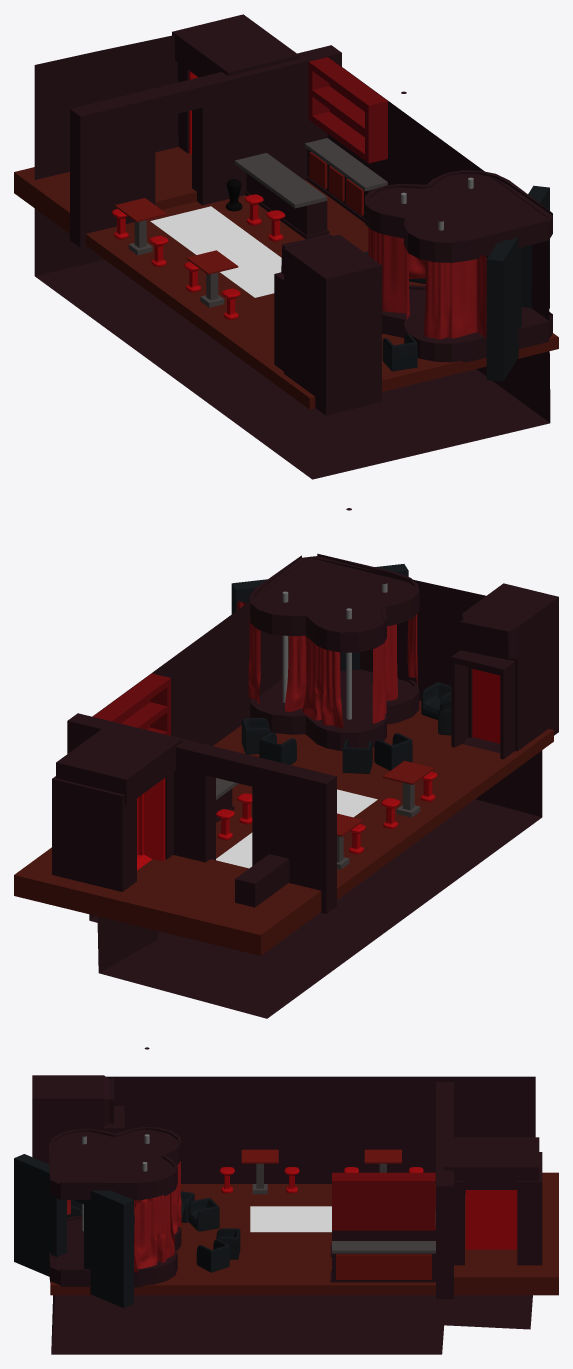
File: StripClubmain.fbx
3 renders of one model, top to bottom at view 1: azimuth 30°, elevation 25°; view 2: azimuth 150°, elevation 25°; view 3: azimuth 270°, elevation 25°, orthographic. The views are drawn at different scales.
Visible parts, largest first — view 1: InteriorStripClub, Cube.002, Cube, Cube.009, Cube.014, Cube.017, Cube.016, Cube.044, Cube.021, Curtain.001, Cube.006, Cube.010 (+8 smaller); view 2: InteriorStripClub, Cube, Cube.002, Cube.014, Cube.009, Cube.042, Cube.044, Cube.006, door.001, Curtain.001 backup, Cube.017, door.003 (+16 smaller); view 3: InteriorStripClub, Cube, Cube.016, Cube.014, Cube.017, Cube.009, Cube.044, Cube.002, door.003, Cube.006, Curtain.001 backup.002, Cube.018 (+11 smaller).
Boxes of the visible parts, x1,y1,x2,y2 form: InteriorStripClub: [34, 35, 550, 479]; Cube.002: [70, 45, 341, 247]; Cube: [14, 147, 558, 409]; Cube.009: [281, 234, 381, 415]; Cube.014: [365, 91, 552, 262]; Cube.017: [308, 57, 387, 163]; Cube.016: [486, 185, 549, 381]; Cube.044: [172, 14, 299, 77]; Cube.021: [150, 206, 281, 297]; Curtain.001: [424, 254, 487, 339]; Cube.006: [382, 219, 552, 362]; Cube.010: [234, 152, 329, 239]; InteriorStripClub: [89, 557, 542, 1018]; Cube: [14, 700, 553, 955]; Cube.002: [67, 713, 336, 913]; Cube.014: [249, 508, 419, 652]; Cube.009: [459, 583, 558, 751]; Cube.042: [52, 776, 136, 891]; Cube.044: [56, 722, 181, 805]; Cube.006: [250, 581, 419, 750]; door.001: [451, 650, 515, 759]; Curtain.001 backup: [285, 635, 343, 728]; Cube.017: [93, 673, 170, 735]; door.003: [137, 778, 165, 870]; InteriorStripClub: [51, 1076, 535, 1354]; Cube: [50, 1172, 558, 1295]; Cube.016: [14, 1154, 133, 1307]; Cube.014: [49, 1047, 181, 1200]; Cube.017: [332, 1172, 435, 1230]; Cube.009: [32, 1075, 113, 1163]; Cube.044: [443, 1137, 539, 1189]; Cube.002: [436, 1082, 453, 1299]; door.003: [465, 1190, 517, 1249]; Cube.006: [49, 1134, 181, 1287]; Curtain.001 backup.002: [134, 1193, 174, 1273]; Cube.018: [336, 1254, 431, 1279].
Size of the model in its own units: 465 by 484 by 887.
